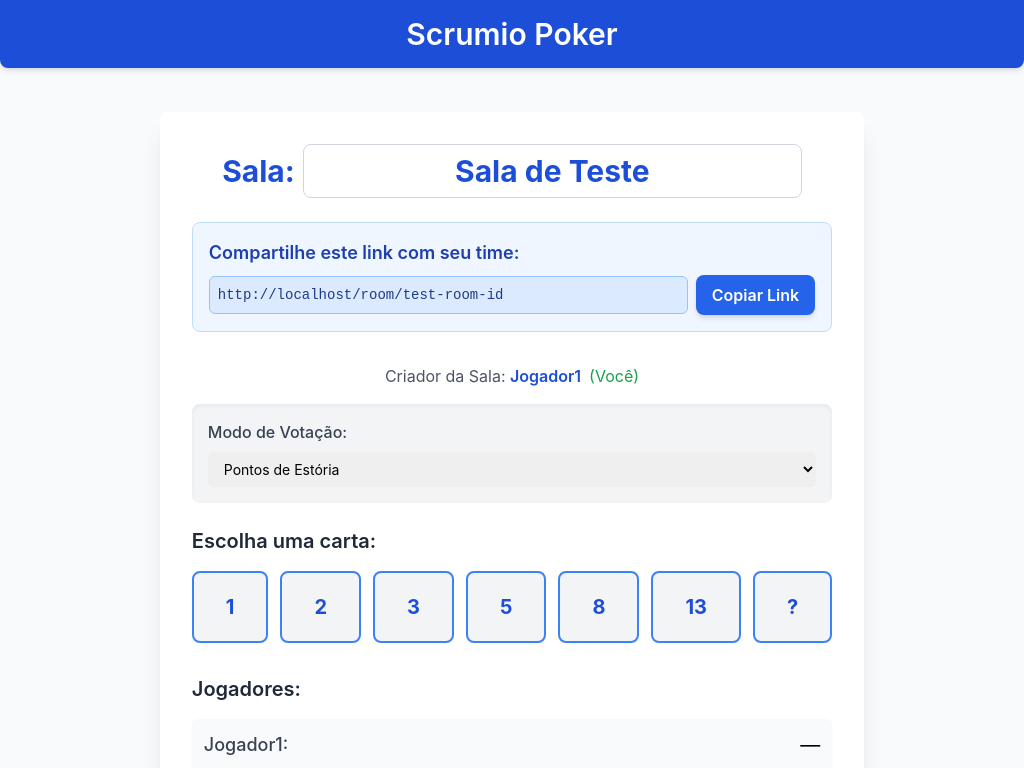
Test case: Room Component › should allow the creator to change room name
Replace the text in the field named "Nome da sala" with "Nova Sala Legal" at {"x": 552, "y": 171}, box [303,144,802,198]
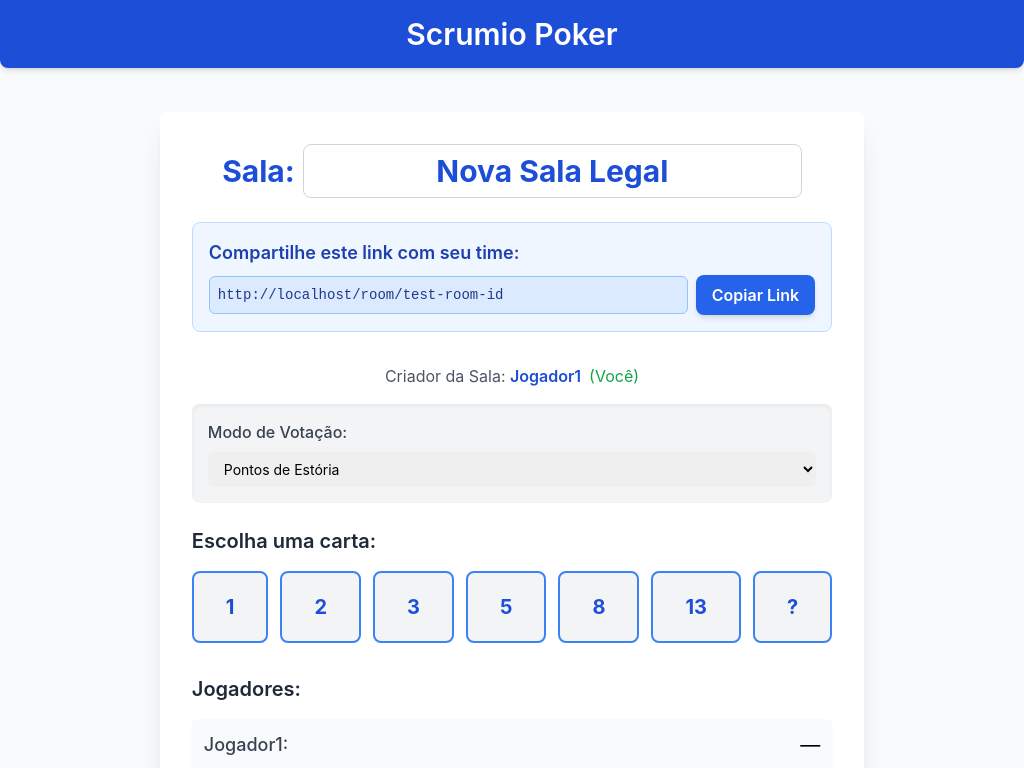
Leave the field named "Nome da sala", box [303,144,802,198]
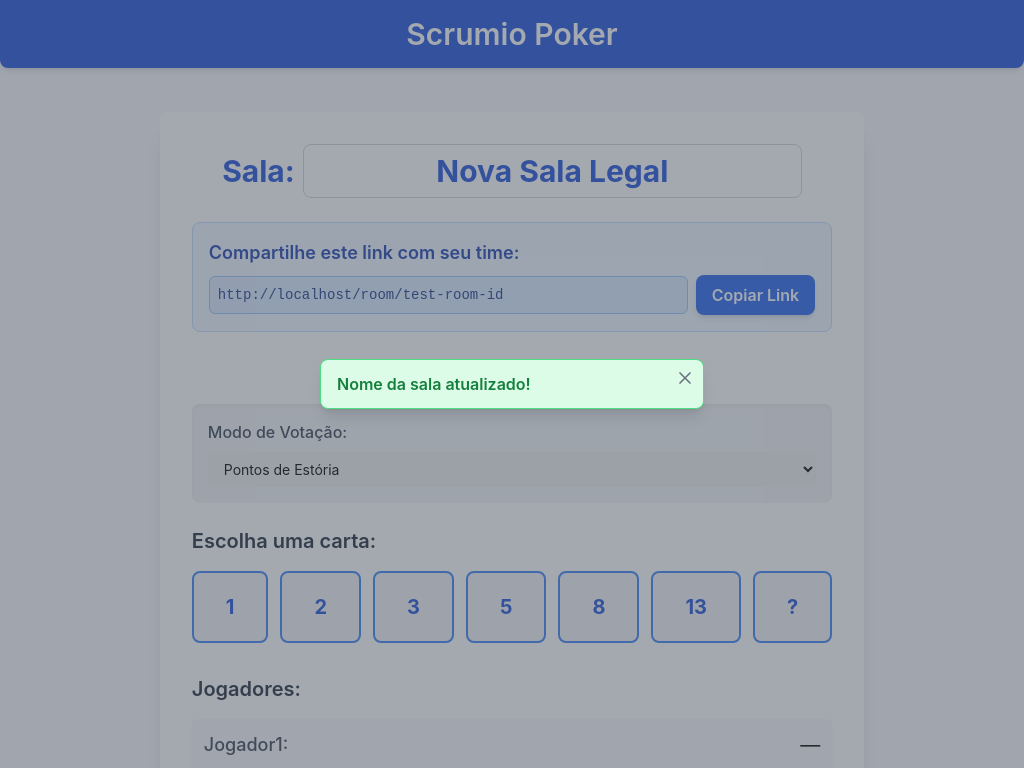
Now the text "Nome da sala atualizado!" is shown, box [337,374,531,394]
